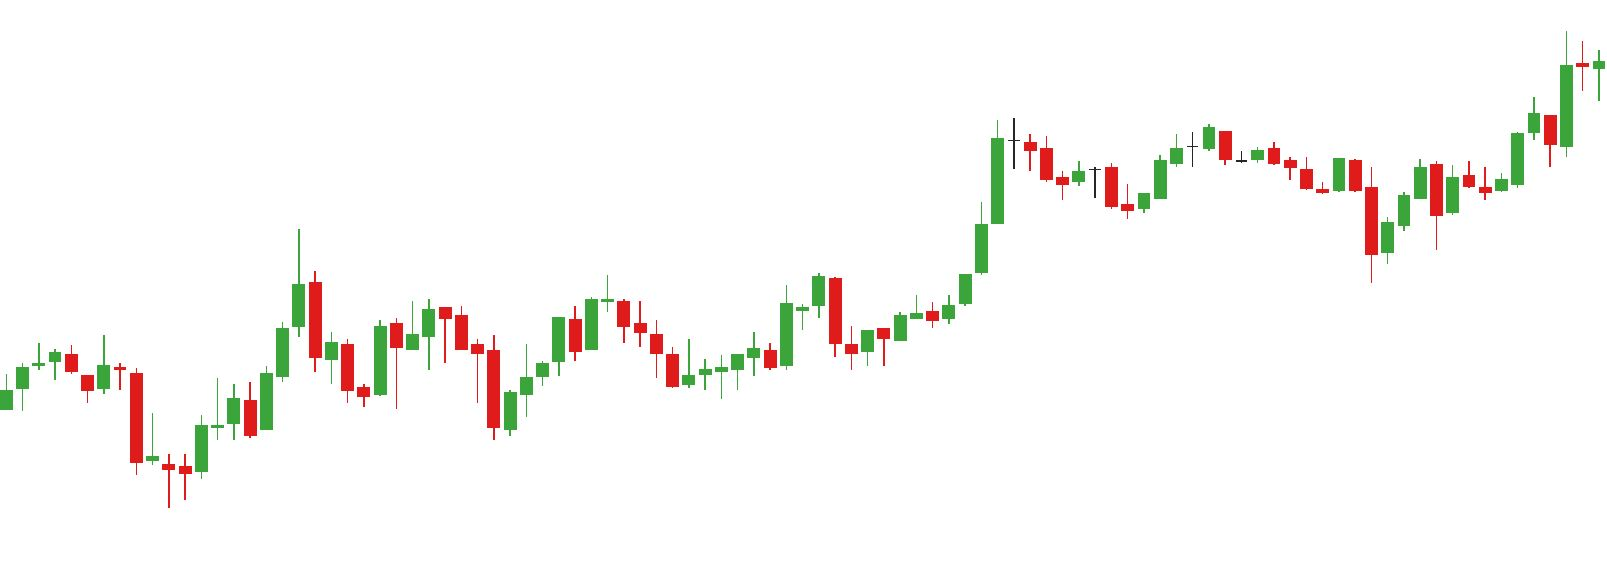buy: (371, 325, 517, 440)
